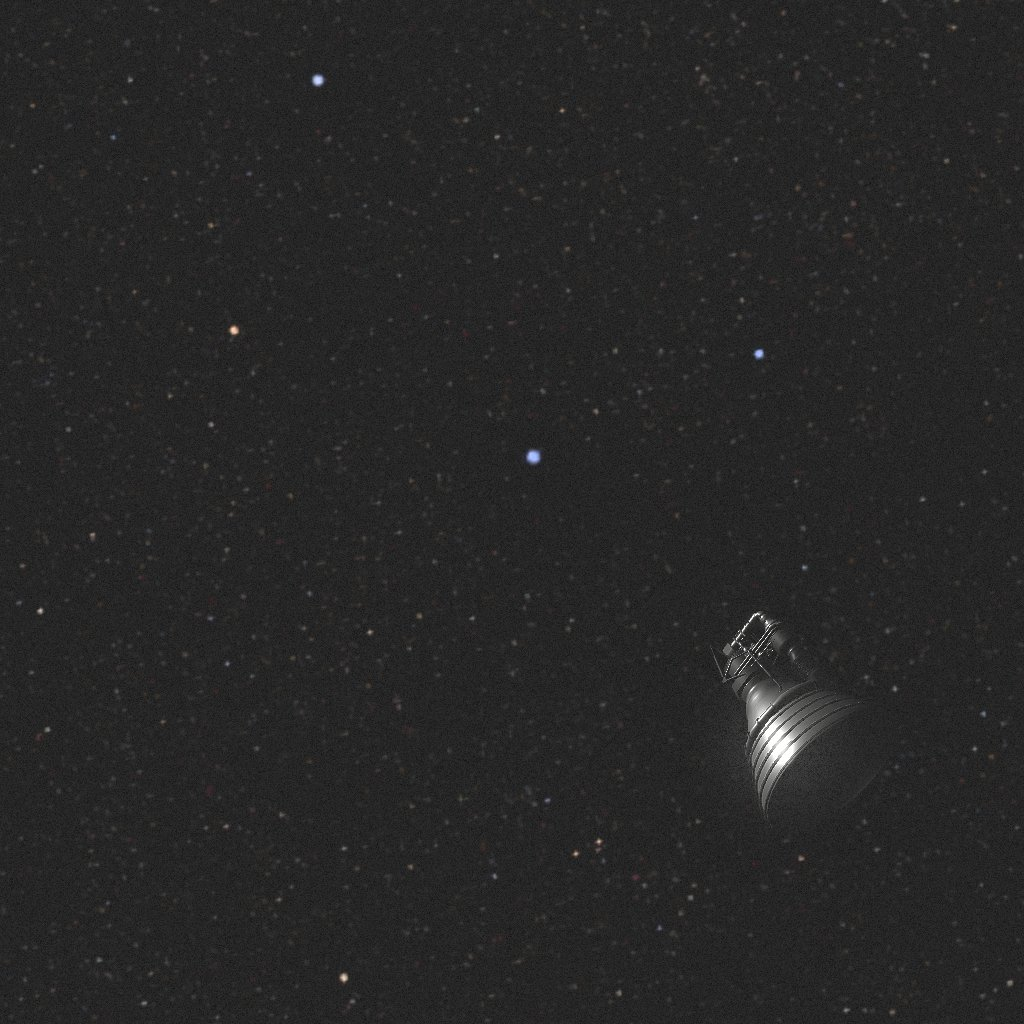debris: (710, 611, 899, 833)
